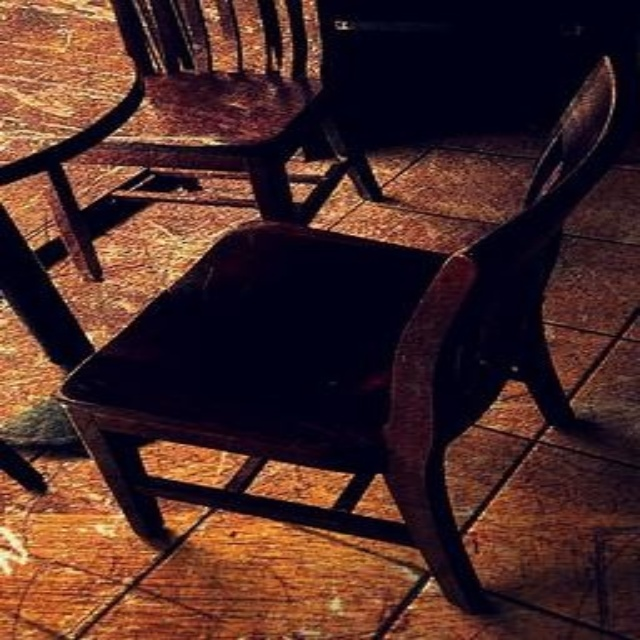obstacle: (60, 56, 623, 610)
